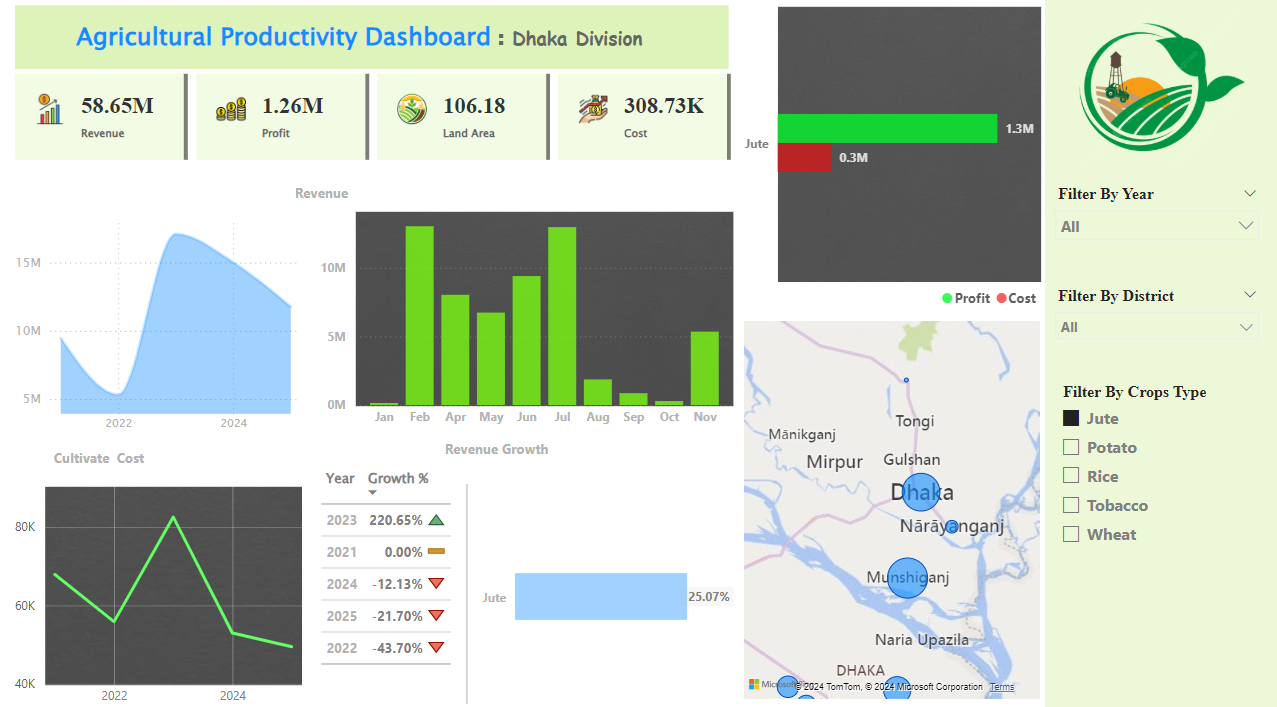

Layout of this report page (visuals, bound fields, positions):
{"tool":"powerbi","page":{"name":"Page 1","canvas":[1280,720],"ordinal":0},"visuals":[{"type":"cardVisual","fields":{"Data":["Sheet1.Revenue","Sheet1.Total Profit","Sheet1.Total Land Area","Sheet1.Total Cost"]},"box":[10,75,728.8,96.2],"z":0},{"type":"lineChart","fields":{"Y":["Sheet1.Revenue"],"Category":["Calendar.Date.Variation.Date Hierarchy.Year"]},"box":[10,213.8,300,236.2],"z":1000},{"type":"shape","box":[1045,0,233.3,720],"z":2000},{"type":"slicer","fields":{"Values":["Sheet1.Cultivate Area"]},"box":[1044.9,287.4,223.9,72.1],"z":3000},{"type":"slicer","fields":{"Values":["Calendar.Year"]},"box":[1044.9,186.6,223.9,93.3],"z":4000},{"type":"slicer","fields":{"Values":["Sheet1.Crops Type"]},"box":[1049.9,383.1,214,195.3],"z":5000},{"type":"image","box":[1044.9,0,233.9,186.6],"z":6000},{"type":"lineChart","fields":{"Y":["Sheet1.Total Cost"],"Category":["Calendar.Date.Variation.Date Hierarchy.Year"]},"box":[10,480,300,240],"z":7000},{"type":"columnChart","title":"Revenue by Month","fields":{"Y":["Sheet1.Revenue"],"Category":["Calendar.Month"]},"box":[315,205,423.8,236.2],"z":8000},{"type":"tableEx","fields":{"Values":["Calendar.Date.Variation.Date Hierarchy.Year","Sheet1.Revenue Growth"]},"box":[315,463.8,152.5,246.2],"z":9000},{"type":"barChart","fields":{"Category":["Sheet1.Crops Type"],"Y":["Sheet1.Revenue Growth"]},"box":[476.2,480,262.5,240],"z":10000},{"type":"textbox","box":[48.5,450.3,160.5,29.9],"z":11000},{"type":"textbox","box":[290,185,76.2,40],"z":12000},{"type":"shape","box":[415,490,103.8,220],"z":13000},{"type":"textbox","box":[440.4,441.6,130.6,38.6],"z":14000},{"type":"shape","box":[15,11.2,713.8,63.8],"z":15000},{"type":"textbox","box":[71.2,20,631.2,55],"z":16000},{"type":"map","fields":{"Category":["Sheet1.District"],"Size":["Sheet1.Revenue"]},"box":[738.6,322.9,305.7,387.1],"z":17000},{"type":"clusteredBarChart","fields":{"Category":["Sheet1.Crops Type"],"Y":["Sheet1.Total Profit","Sheet1.Total Cost"]},"box":[738.6,0,307.1,322.9],"z":17001}]}

Visuals, with their boxes in screenshot pixels (x1, y1, x2, y2), scaled from the page's 1280x720 canvas onto the 1277x707 screenshot:
cardVisual - Sheet1.Revenue x Sheet1.Total Profit: box(10, 74, 737, 168)
lineChart - Sheet1.Revenue x Calendar.Date.Variation.Date Hierarchy.Year: box(10, 210, 309, 442)
shape: box(1043, 0, 1275, 706)
slicer - Sheet1.Cultivate Area: box(1042, 282, 1266, 353)
slicer - Calendar.Year: box(1042, 183, 1266, 275)
slicer - Sheet1.Crops Type: box(1047, 376, 1261, 568)
image: box(1042, 0, 1276, 183)
lineChart - Sheet1.Total Cost x Calendar.Date.Variation.Date Hierarchy.Year: box(10, 471, 309, 706)
"Revenue by Month" columnChart: box(314, 201, 737, 433)
tableEx - Calendar.Date.Variation.Date Hierarchy.Year x Sheet1.Revenue Growth: box(314, 455, 466, 697)
barChart - Sheet1.Crops Type x Sheet1.Revenue Growth: box(475, 471, 737, 706)
textbox: box(48, 442, 209, 472)
textbox: box(289, 182, 365, 221)
shape: box(414, 481, 518, 697)
textbox: box(439, 434, 570, 472)
shape: box(15, 11, 727, 74)
textbox: box(71, 20, 701, 74)
map - Sheet1.District x Sheet1.Revenue: box(737, 317, 1042, 697)
clusteredBarChart - Sheet1.Crops Type x Sheet1.Total Profit: box(737, 0, 1043, 317)
